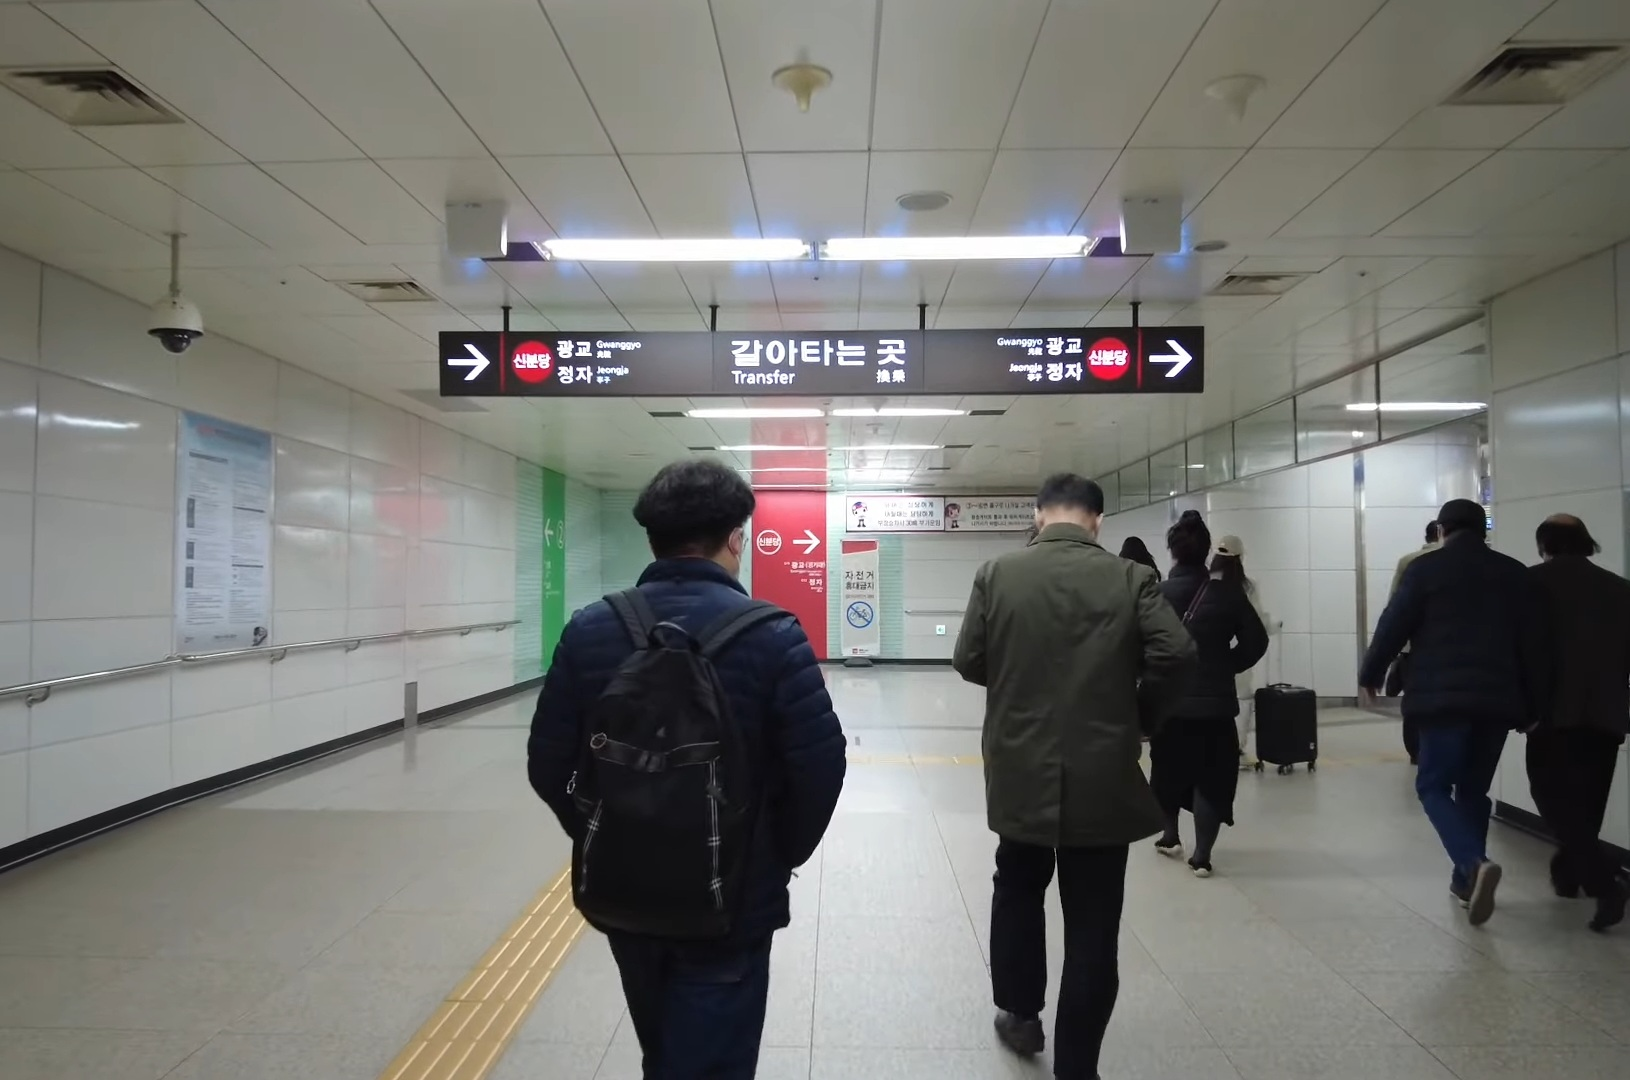signBoard: (430, 315, 1210, 403)
